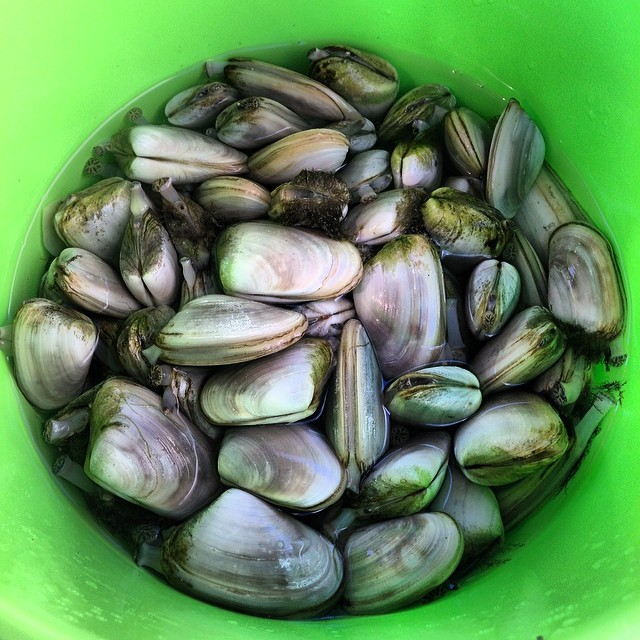tuatua: (165, 488, 346, 617), (84, 375, 214, 520), (354, 233, 455, 369), (346, 511, 465, 610), (216, 425, 348, 514), (218, 217, 362, 298), (204, 337, 334, 426), (220, 51, 365, 129), (453, 391, 570, 487), (163, 292, 308, 367), (545, 219, 628, 347), (10, 298, 97, 407), (111, 122, 250, 185), (332, 321, 388, 477), (487, 90, 545, 222), (358, 435, 450, 515), (307, 37, 398, 117), (470, 310, 558, 392), (44, 245, 138, 316), (425, 185, 507, 263), (52, 177, 133, 255), (248, 126, 357, 183), (441, 468, 507, 562), (382, 363, 476, 425), (118, 208, 176, 305), (384, 82, 457, 146), (216, 96, 306, 145), (468, 258, 523, 333), (349, 187, 426, 240), (165, 80, 236, 125)
